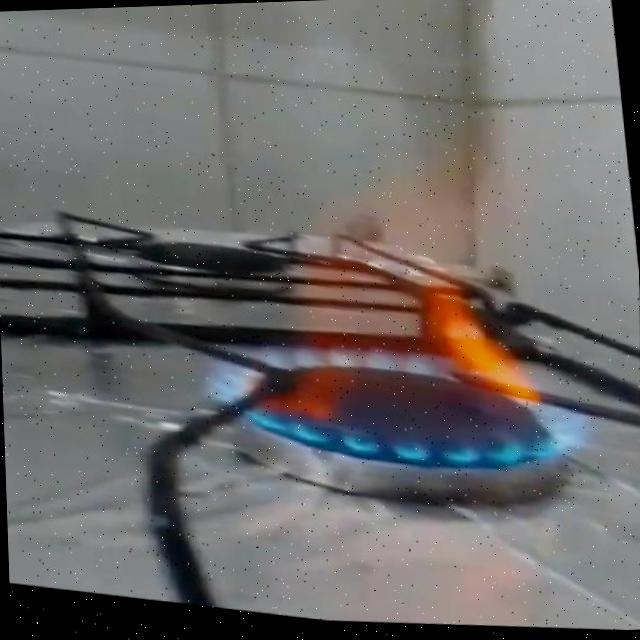fire: (170, 93, 627, 502)
